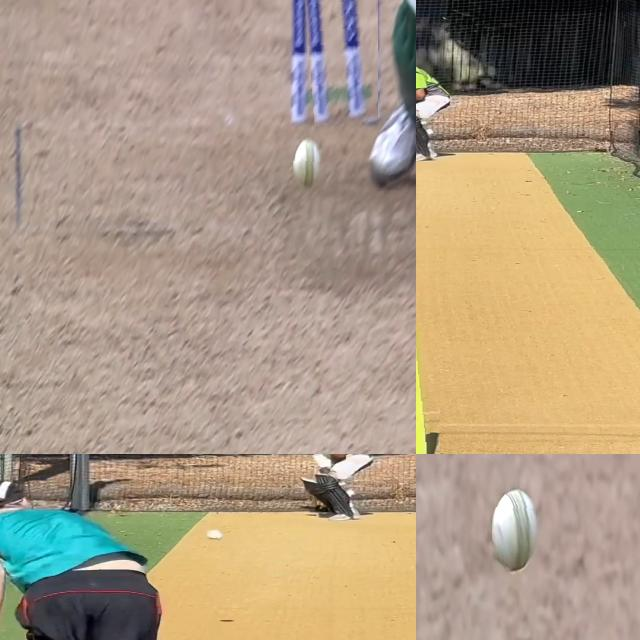Cricket ball: (492, 484, 539, 574), (293, 138, 323, 188), (204, 528, 226, 541)
Stumps: (291, 0, 378, 126)
